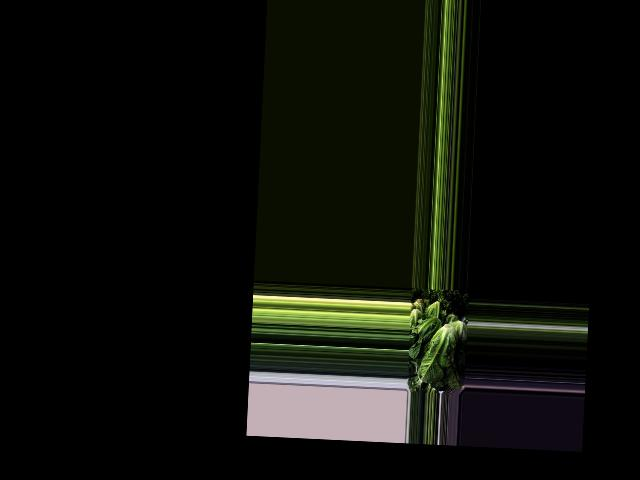lettuce: (410, 314, 441, 361)
